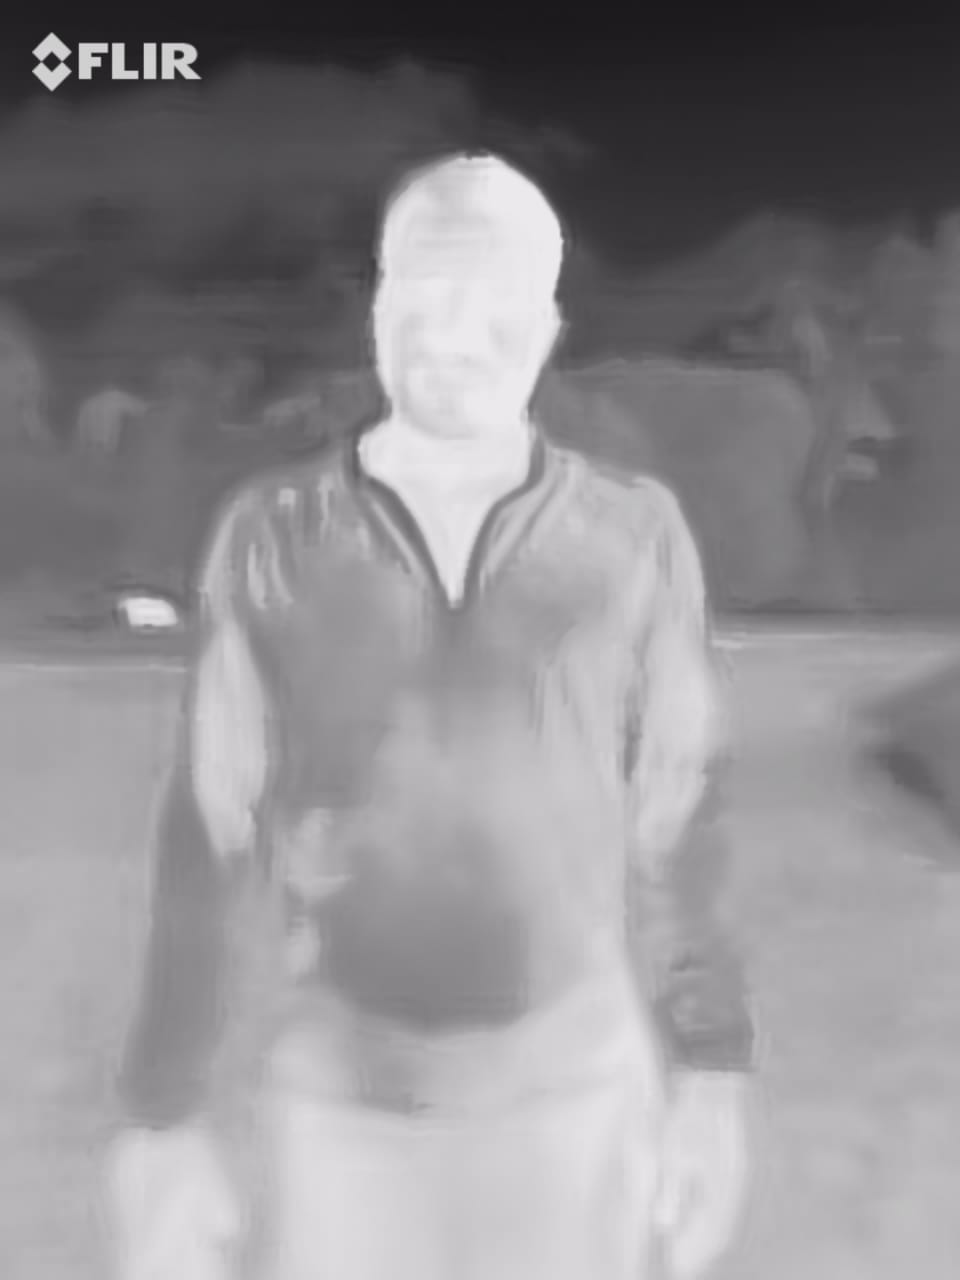head: (353, 145, 574, 463)
